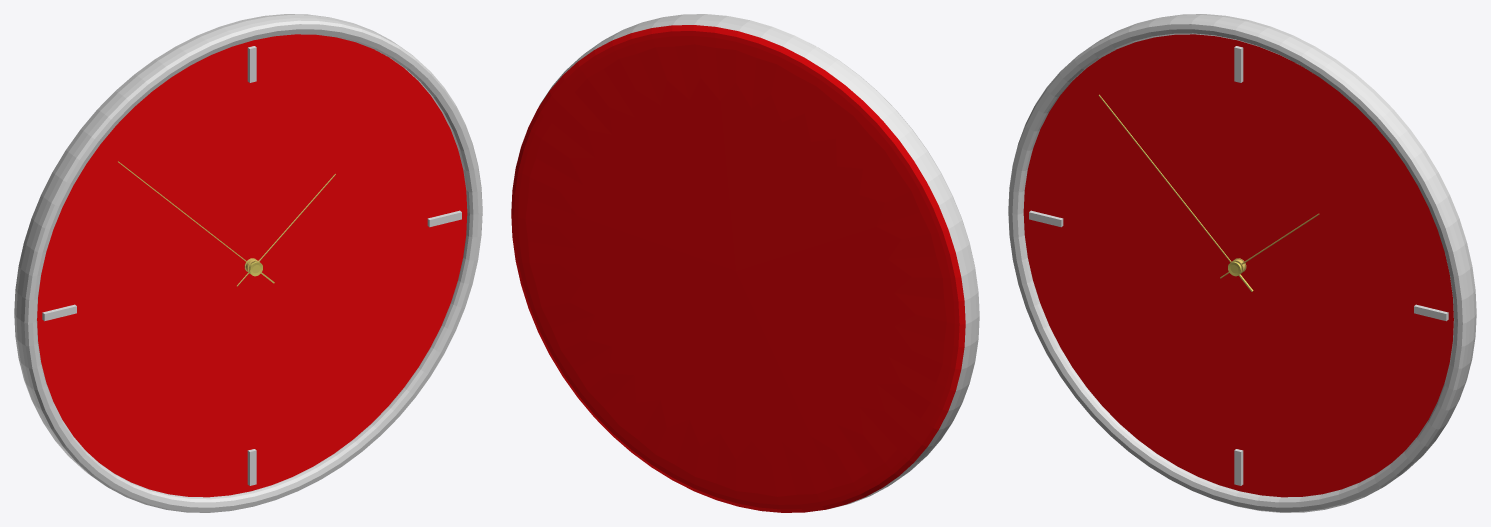
The model's file is uploads_files_2656258_clock+red.fbx.
3 views of the same model, side by side, from view 1: azimuth 30°, elevation 25°; view 2: azimuth 150°, elevation 25°; view 3: azimuth 330°, elevation 25° (orthographic).
Parts seen in each view (by area): view 1: Circle; view 2: Circle; view 3: Circle, Circle.003.
Part boxes in pixels (x1,y1,x2,y2): Circle: (14,14,482,512); Circle: (511,14,979,512); Circle: (1008,14,1476,512); Circle.003: (1098,94,1253,291).
Size of the model in its own units: 223 by 223 by 15.12.
